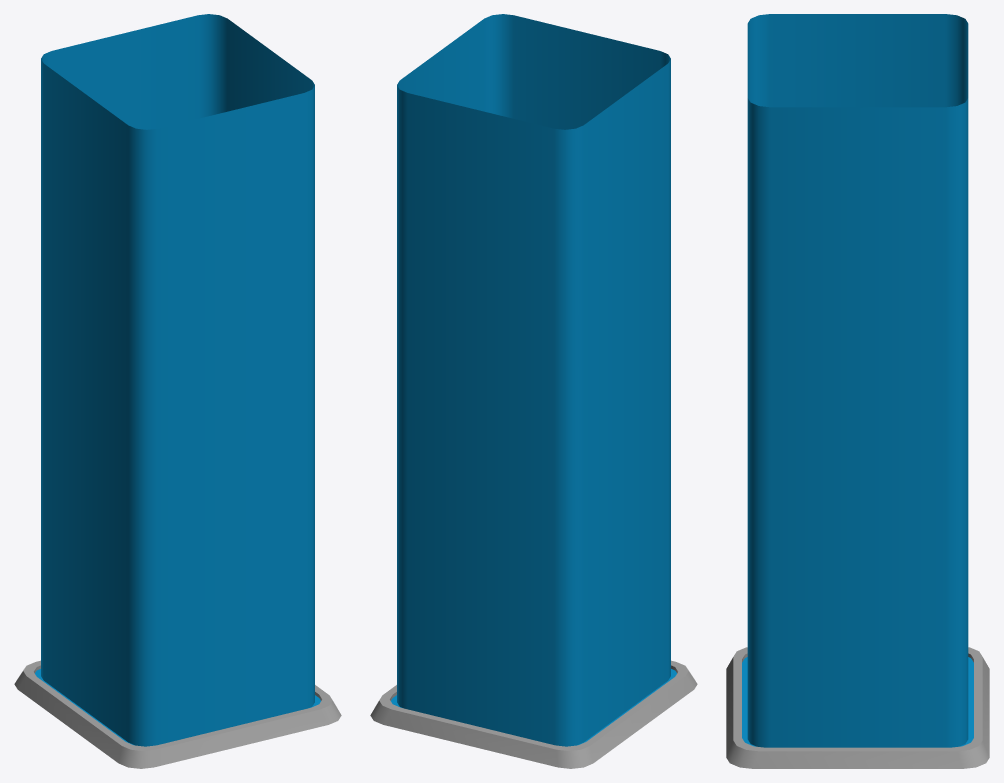
The model's file is EnergyPlatform.fbx.
3 views of the same model, side by side, from view 1: azimuth 30°, elevation 25°; view 2: azimuth 150°, elevation 25°; view 3: azimuth 270°, elevation 25° (orthographic). The views are drawn at different scales.
Parts seen in each view (by area): view 1: EnergyPlatform; view 2: EnergyPlatform; view 3: EnergyPlatform.
Part boxes in pixels (x1,y1,x2,y2): EnergyPlatform: (14, 14, 341, 768); EnergyPlatform: (370, 14, 697, 768); EnergyPlatform: (726, 14, 989, 768).
Bounding box in the file's own units: 74.32 × 203 × 74.32.
